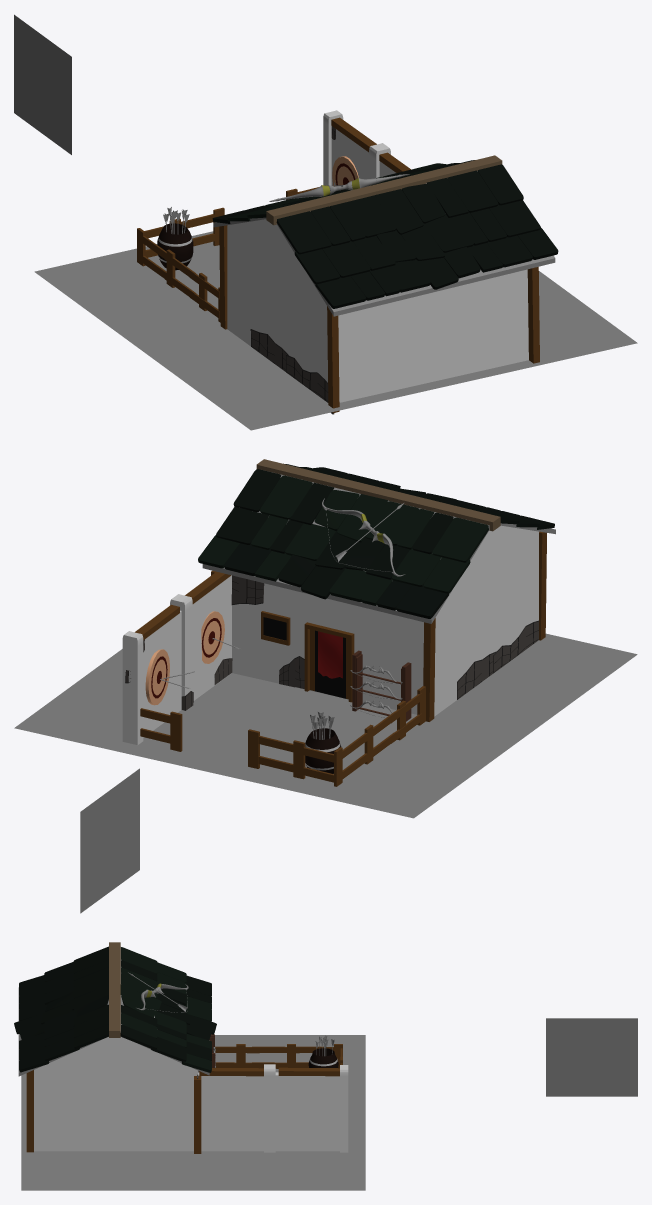
Rendered from archery-barracks-2.fbx.
The picture shows the model from 3 angles, top to bottom: view 1: azimuth 30°, elevation 25°; view 2: azimuth 150°, elevation 25°; view 3: azimuth 270°, elevation 25°; orthographic projection. The views are drawn at different scales.
Parts seen in each view (by area): view 1: Box001, Plane001, Plane013, Box097, Box002, Box253, Box250, Box246, Box249, Box262, Box259, Box100 (+25 smaller); view 2: Plane001, Box001, Plane013, Box097, Box004, Box198, Box002, Box012, Box207, Box016, Box204, Box011 (+30 smaller); view 3: Box001, Plane001, Plane013, Box097, Box101, Box099, Box157, Cylinder007, Box198, Box262, Box207, Box253 (+13 smaller).
Boxes of the visible parts, box(x1,y1,x2,y2) form: Box001: box(227, 110, 528, 402); Plane001: box(34, 231, 637, 430); Plane013: box(14, 14, 71, 154); Box097: box(266, 155, 502, 225); Box002: box(213, 171, 555, 316); Box253: box(276, 211, 331, 254); Box250: box(344, 195, 396, 237); Box246: box(447, 170, 498, 212); Box249: box(375, 189, 423, 234); Box262: box(489, 200, 540, 237); Box259: box(425, 214, 473, 252); Box100: box(327, 306, 339, 413); Plane001: box(14, 633, 637, 818); Box001: box(122, 525, 538, 744); Plane013: box(80, 768, 139, 913); Box097: box(256, 459, 500, 531); Box004: box(304, 622, 354, 702); Box198: box(432, 517, 488, 562); Box002: box(202, 472, 555, 623); Box012: box(260, 475, 312, 519); Box207: box(216, 506, 268, 544); Box016: box(365, 501, 419, 545); Box204: box(285, 523, 335, 560); Box011: box(233, 469, 281, 511); Box001: box(34, 1037, 348, 1152); Plane001: box(21, 1035, 365, 1190); Plane013: box(546, 1018, 637, 1096); Box097: box(109, 942, 120, 1037); Box101: box(26, 1070, 33, 1152); Box099: box(194, 1076, 201, 1153); Box157: box(278, 1067, 339, 1076); Cylinder007: box(308, 1048, 338, 1067); Box198: box(121, 947, 157, 973); Box262: box(44, 1036, 79, 1061); Box207: box(151, 1037, 186, 1061); Box253: box(73, 946, 108, 973).
Bounding box in the file's own units: 371 × 153 × 653.
